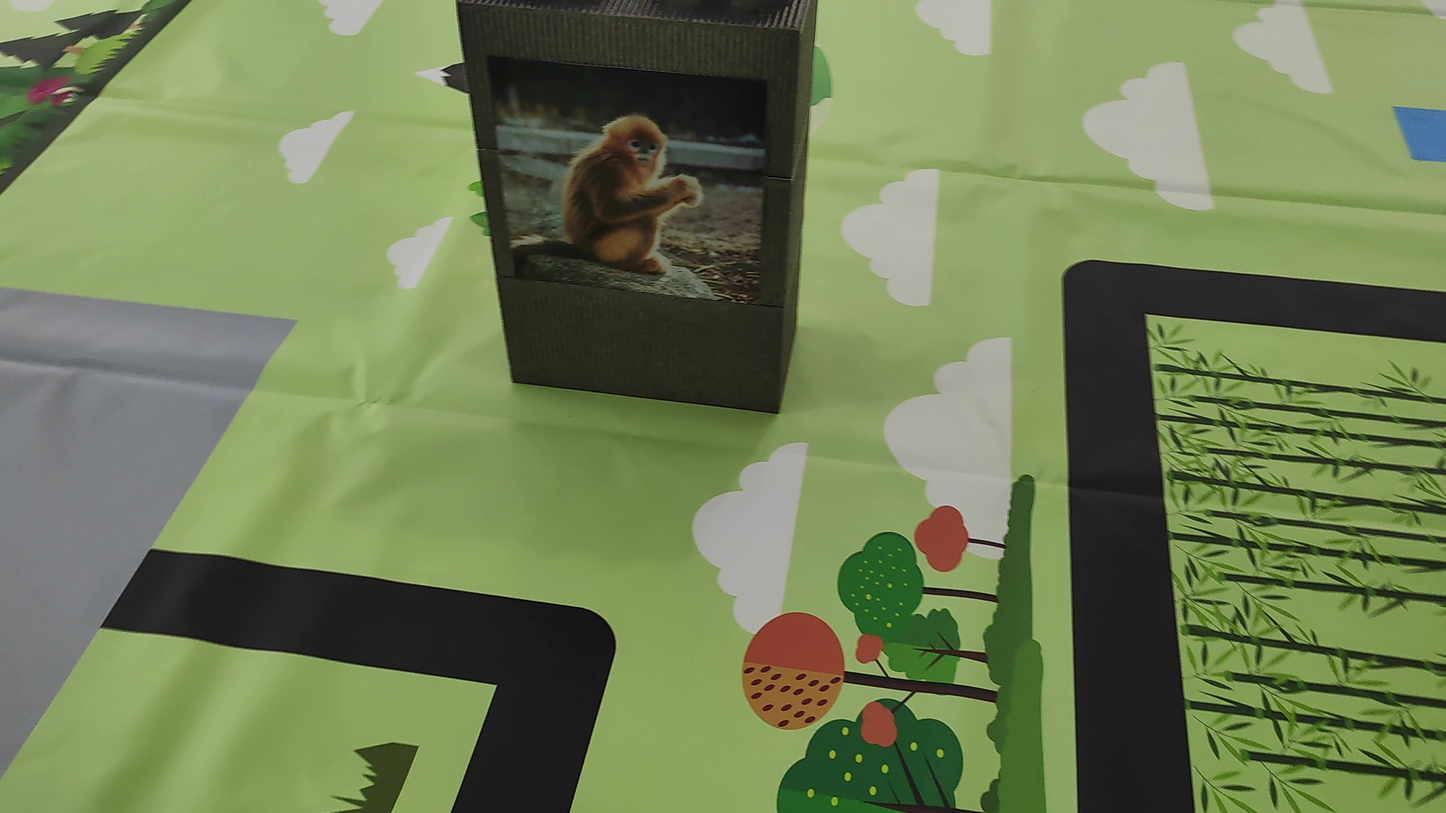monkey: (542, 101, 726, 276)
